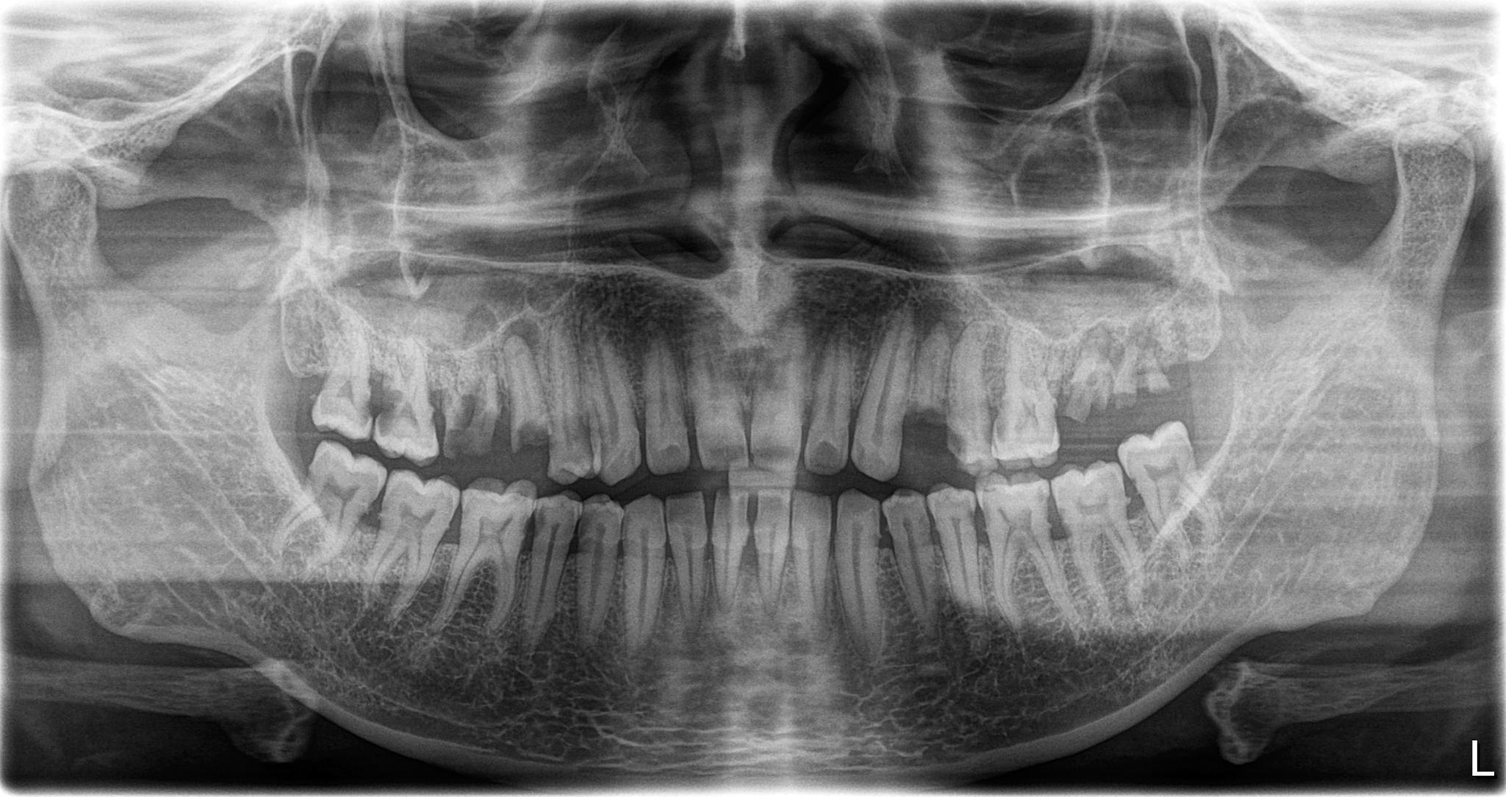Dental Caries: (428, 393, 495, 448), (511, 417, 554, 449)
Retained Root: (1052, 338, 1189, 417), (906, 336, 945, 451)
